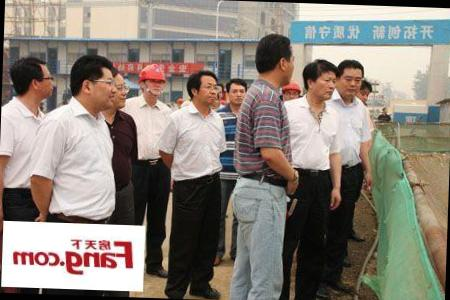no_helmet: (68, 52, 122, 114), (253, 30, 299, 88), (7, 54, 52, 109), (303, 59, 337, 103), (186, 66, 221, 108), (102, 66, 131, 114), (335, 56, 366, 98), (226, 76, 249, 108)
